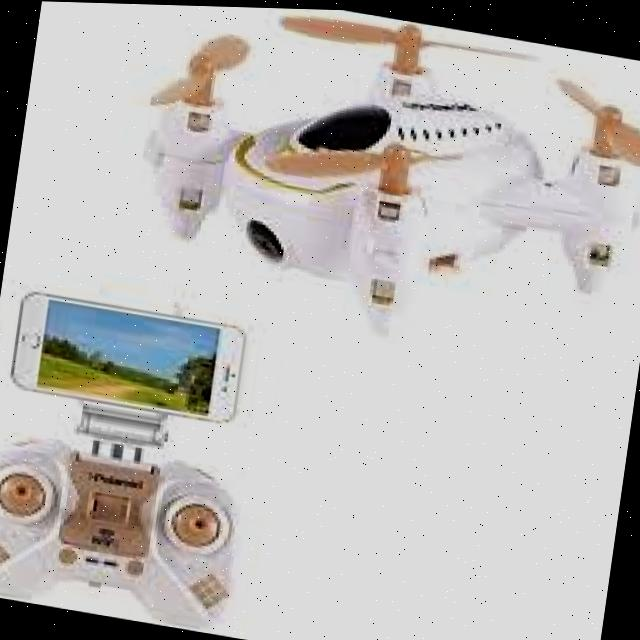drone: (107, 2, 640, 377)
